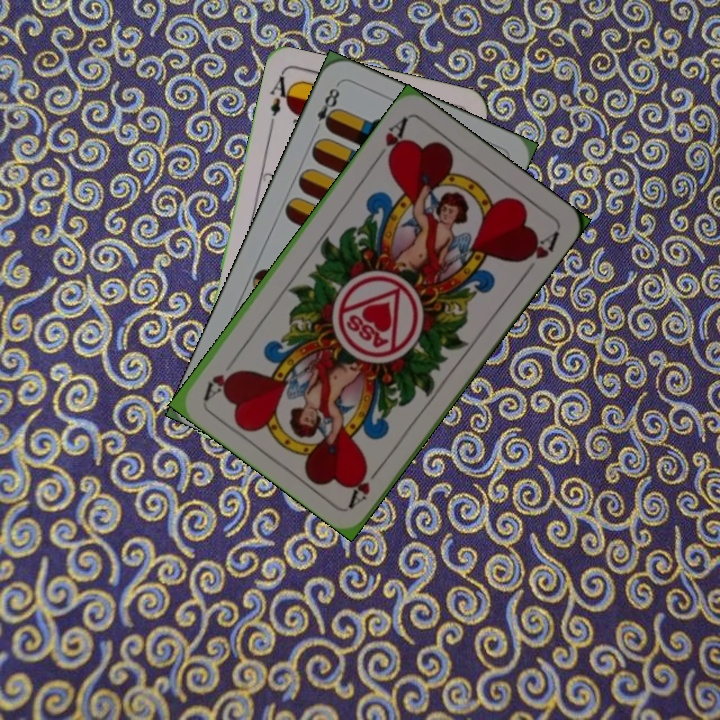E8: (309, 81, 343, 136)
EA: (265, 70, 296, 129)
HA: (345, 458, 387, 510), (370, 113, 411, 166)
